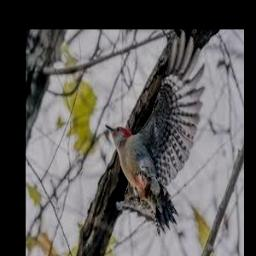Woodpecker: (106, 29, 205, 234)
